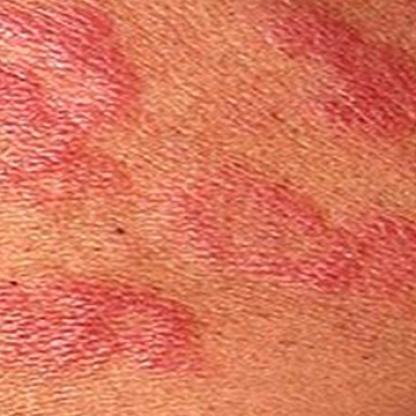Leprosy: (0, 0, 134, 210), (254, 0, 413, 144), (0, 275, 215, 380)
